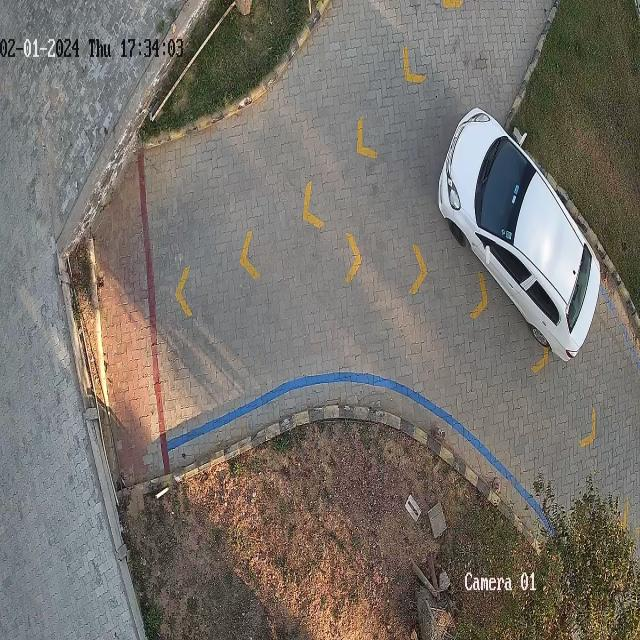car: (437, 108, 602, 361)
